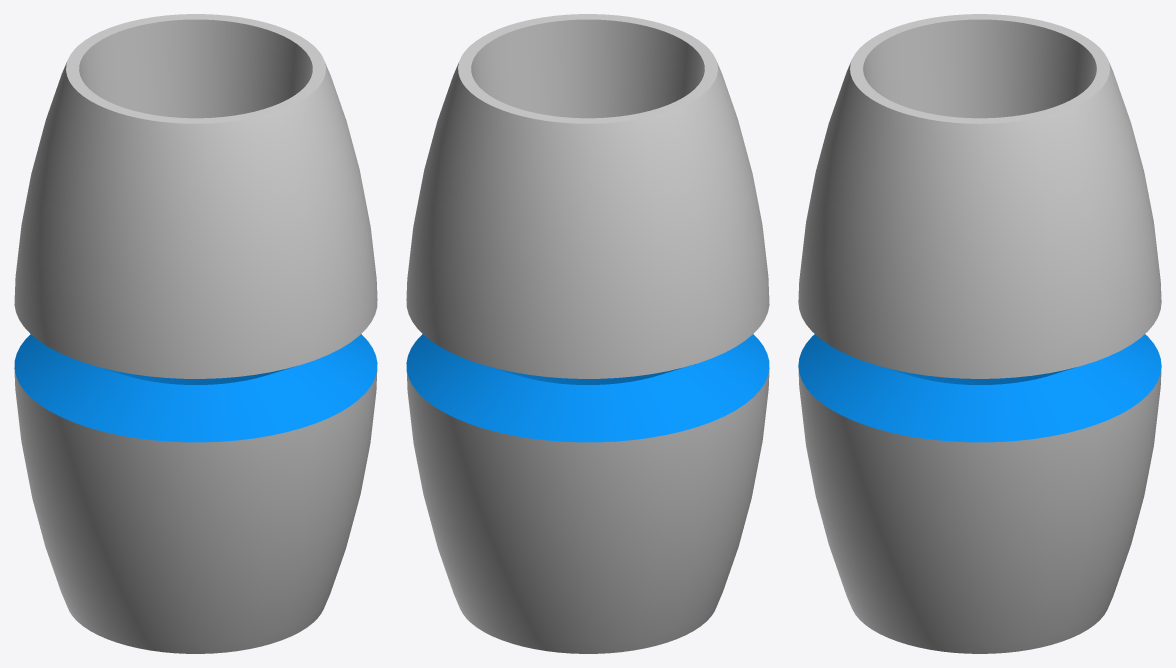
File: tower001.fbx
3 renders of one model, left to right at view 1: azimuth 30°, elevation 25°; view 2: azimuth 150°, elevation 25°; view 3: azimuth 270°, elevation 25°, orthographic.
Parts seen in each view (by area): view 1: tower001; view 2: tower001; view 3: tower001.
Part boxes in pixels (x1,y1,x2,y2): tower001: (14,14,377,653); tower001: (406,14,769,653); tower001: (798,14,1161,653).
Size of the model in its own units: 27.78 by 27.78 by 44.73.
